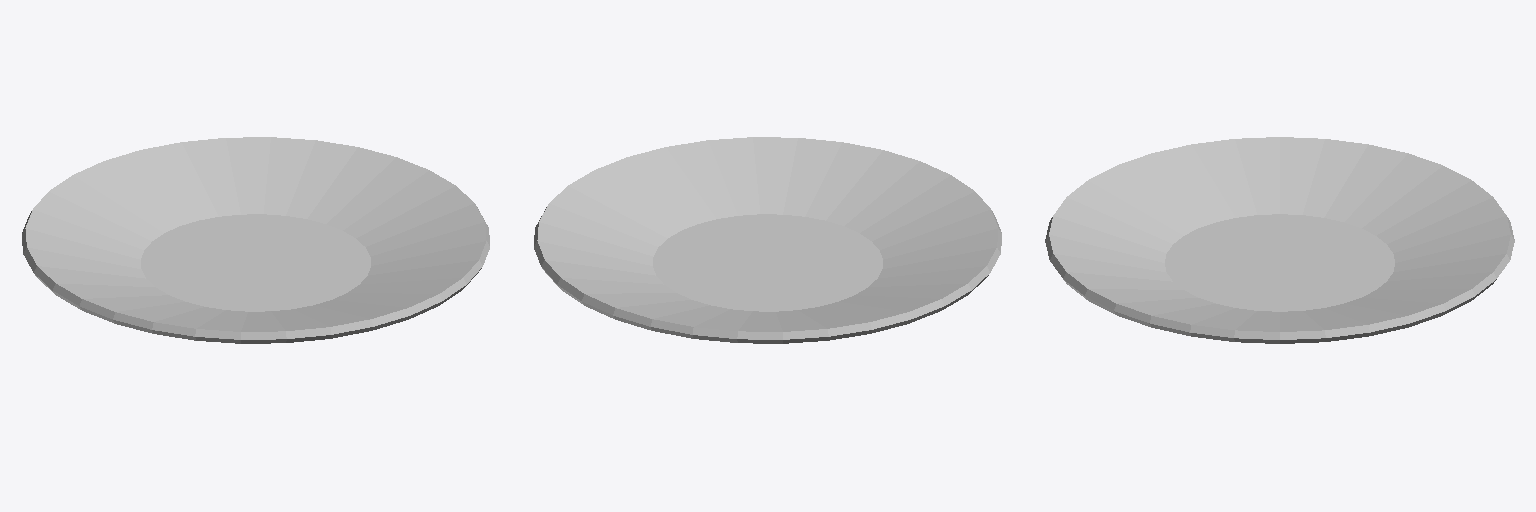
File: DecorativePlate.obj
3 renders of one model, left to right at view 1: azimuth 30°, elevation 25°; view 2: azimuth 150°, elevation 25°; view 3: azimuth 270°, elevation 25°, orthographic.
Visible parts, largest first — view 1: Cylinder_Cylinder; view 2: Cylinder_Cylinder; view 3: Cylinder_Cylinder.
Boxes of the visible parts, box(x1,y1,x2,y2) form: Cylinder_Cylinder: box(22, 137, 489, 343); Cylinder_Cylinder: box(534, 137, 1001, 343); Cylinder_Cylinder: box(1045, 137, 1514, 343).
Size of the model in its own units: 50.83 by 5.12 by 50.83.